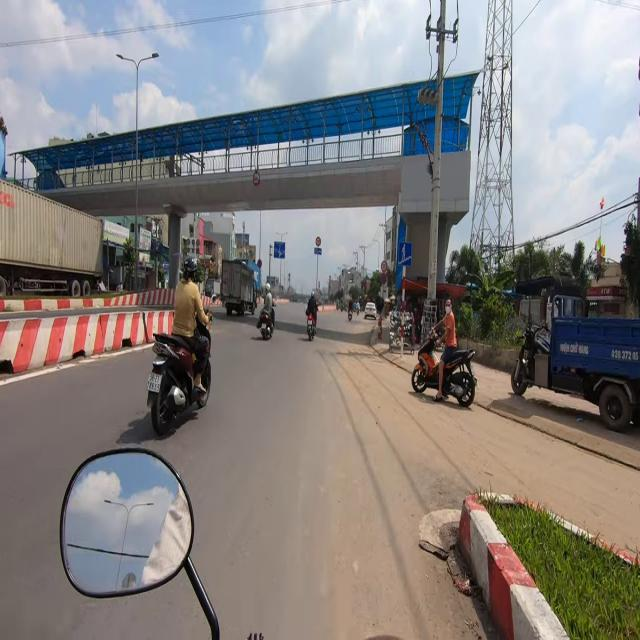bien_trang: (146, 371, 162, 394)
